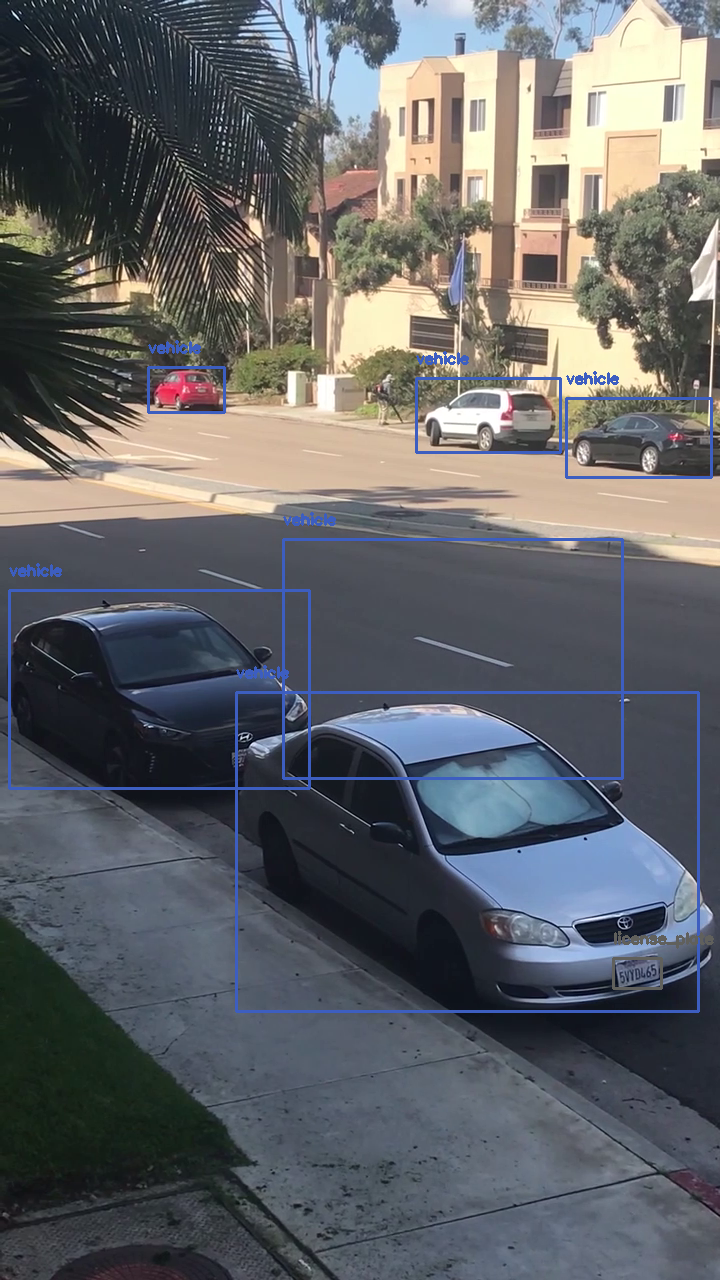license_plate: (613, 958, 661, 988)
vehicle: (236, 692, 698, 1011), (283, 539, 622, 778), (9, 590, 309, 788), (566, 398, 711, 477), (416, 378, 560, 452), (148, 367, 224, 412)
